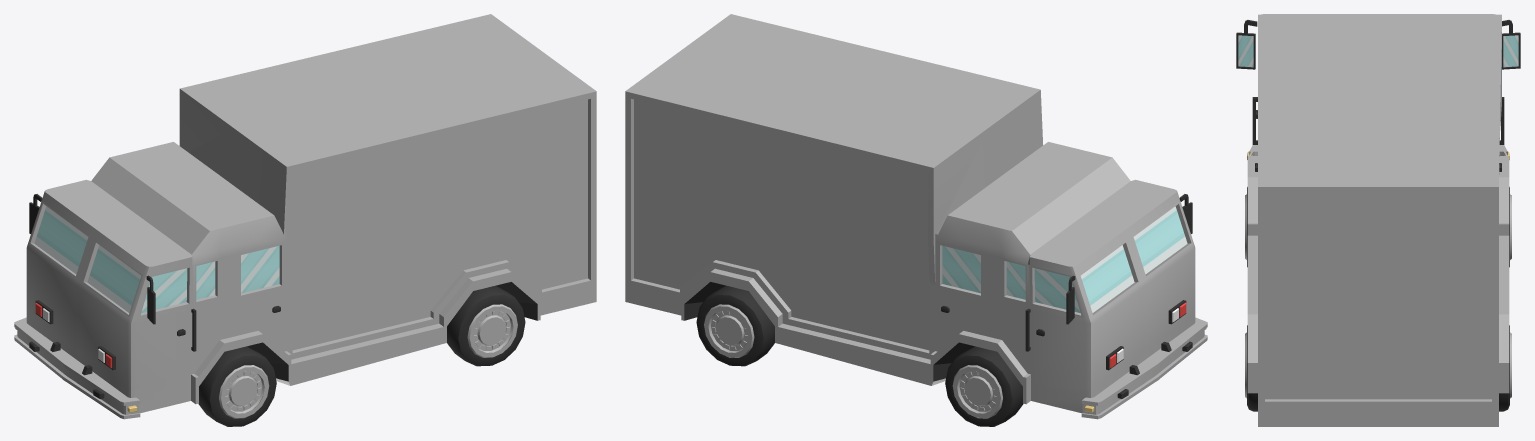
File: Props_LoadingCar.fbx
3 views of the same model, side by side, from view 1: azimuth 30°, elevation 25°; view 2: azimuth 150°, elevation 25°; view 3: azimuth 270°, elevation 25° (orthographic). The views are drawn at different scales.
Visible parts, largest first — view 1: Props_LoadingCar; view 2: Props_LoadingCar; view 3: Props_LoadingCar.
Part boxes in pixels (bbox=[...]): Props_LoadingCar: bbox=[14, 14, 596, 426]; Props_LoadingCar: bbox=[625, 14, 1207, 426]; Props_LoadingCar: bbox=[1236, 14, 1520, 426].
Size of the model in its own units: 525 by 257 by 236.
